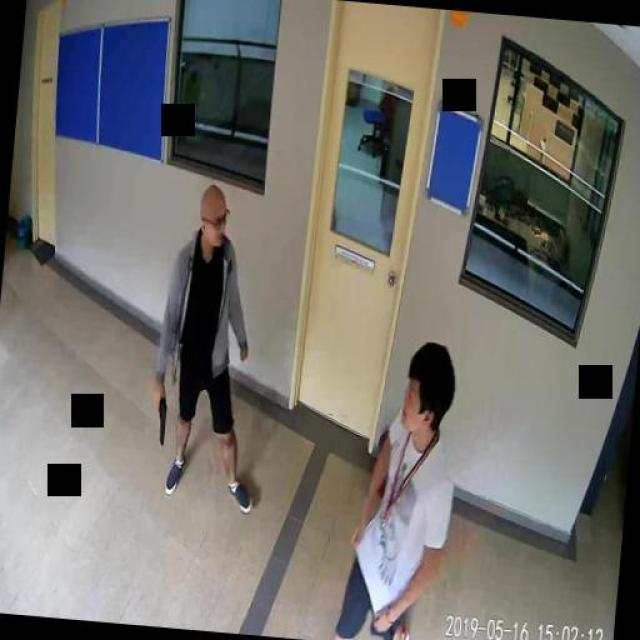gun: (150, 388, 168, 444)
